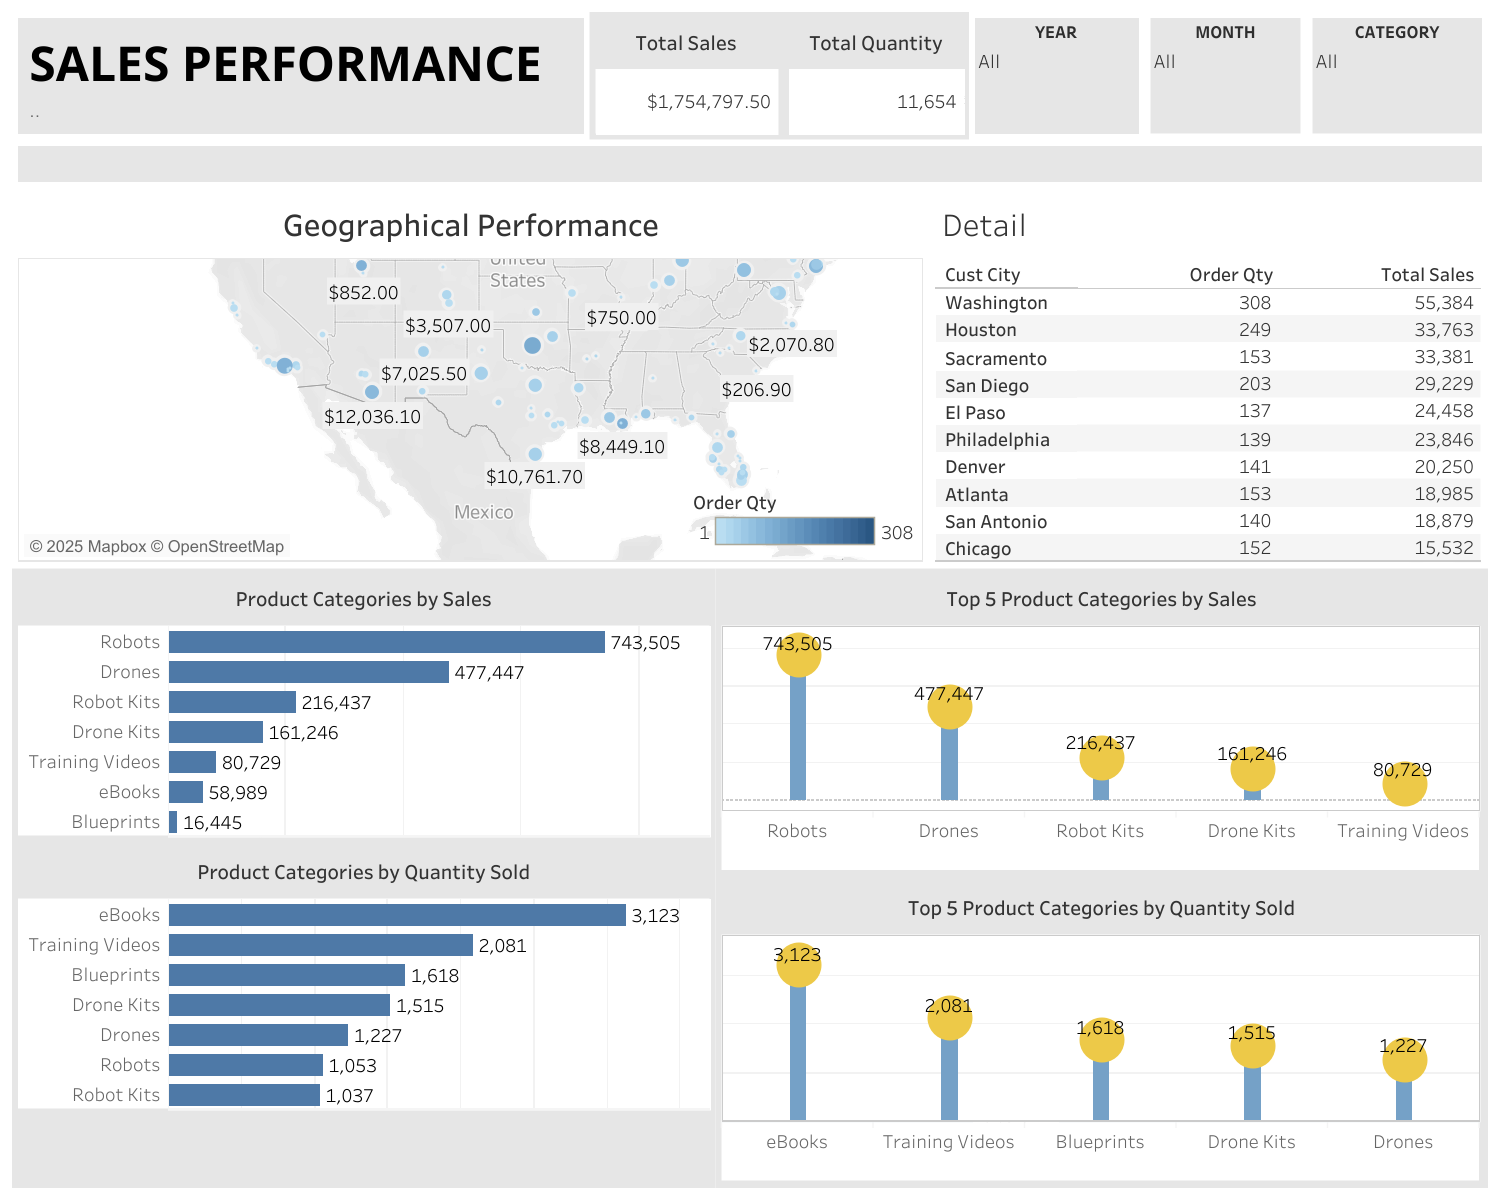

Layout of this report page (visuals, bound fields, positions):
{"tool":"powerbi","page":{"name":"Final_Dashboard","canvas":[1280,720],"ordinal":0},"visuals":[{"type":"shape","box":[0,0,1280,96],"z":0},{"type":"shape","box":[0,95.6,776.7,97.8],"z":1000},{"type":"textbox","box":[22.3,0,563.5,96],"z":2000},{"type":"textbox","box":[0,95,130,97.8],"z":3000},{"type":"textbox","box":[130,95,128.3,97.8],"z":4000},{"type":"textbox","box":[257.8,95,130,97.2],"z":5000},{"type":"card","fields":{"Values":["Sum(Table_Master_clean.total_sales)"]},"box":[0,133.9,130,58.3],"z":6000},{"type":"card","fields":{"Values":["Sum(Table_Master_clean.order_qty)"]},"box":[130,134.4,128.3,58.3],"z":7000},{"type":"card","fields":{"Values":["CountNonNull(Table_Master_clean.total_sales)"]},"box":[257.9,133.7,130,58.6],"z":8000},{"type":"slicer","title":"Year","fields":{"Values":["Table_Master_clean.order_date.Variation.Date Hierarchy.Year"]},"box":[835,0,188.3,95],"z":9000},{"type":"slicer","title":"Month","fields":{"Values":["Table_Master_clean.order_date.Variation.Date Hierarchy.Month"]},"box":[1023.3,0,128.3,95],"z":10000},{"type":"slicer","title":"Category","fields":{"Values":["Table_Master_clean.category_name"]},"box":[1151.7,0,128.3,95],"z":11000},{"type":"lineChart","title":"Top 5 Categories by Quantity Sold","fields":{"Category":["Table_Master_clean.category_name"],"Y":["Sum(Table_Master_clean.order_qty)"]},"box":[0,193.8,407.5,192.5],"z":12000},{"type":"pieChart","title":"Top 5 Categories by Sales ","fields":{"Category":["Table_Master_clean.category_name"],"Y":["Sum(Table_Master_clean.total_sales)"]},"box":[407.5,193.8,368.8,192.5],"z":13000},{"type":"clusteredBarChart","title":"Total Quantity Sold by City","fields":{"Category":["Table_Master_clean.cust_city"],"Y":["Sum(Table_Master_clean.order_qty)"]},"box":[776.2,386.2,503.8,333.8],"z":14000},{"type":"filledMap","title":"Total Sales by City","fields":{"Category":["Table_Master_clean.cust_city"]},"box":[776.2,95,498.8,291.2],"z":15000},{"type":"textbox","box":[518.7,95,129.2,97.5],"z":16000},{"type":"multiRowCard","fields":{"Values":["Table_Master_clean.cust_city","Sum(Table_Master_clean.total_sales)"]},"box":[518.7,133.3,129.2,58.3],"z":17000},{"type":"textbox","box":[647.8,95,128.3,98.3],"z":18000},{"type":"multiRowCard","fields":{"Values":["Table_Master_clean.cust_city","Sum(Table_Master_clean.order_qty)"]},"box":[647.7,135.5,128.2,58.2],"z":19000},{"type":"textbox","box":[388.2,95.5,130,98.2],"z":20000},{"type":"card","fields":{"Values":["Avg(Table_Master_clean.total_sales)"]},"box":[388.2,133.6,130,58.2],"z":21000},{"type":"clusteredBarChart","title":"Product Categories by Sales","fields":{"Category":["Table_Master_clean.category_name"],"Y":["Sum(Table_Master_clean.total_sales)"]},"box":[0,388,388,332],"z":22000},{"type":"funnel","title":"Product Categories by Quantity Sold","fields":{"Category":["Table_Master_clean.category_name"],"Y":["Sum(Table_Master_clean.order_qty)"]},"box":[388,386,388,334],"z":22001}]}

Visuals, with their boxes on the page's 1280x720 design canvas (x1, y1, x2, y2). These are canvas units, not pixel positions in the 1499x1199 screenshot, which may show the page scaled, cropped or inside an application window:
shape: <bbox>0, 0, 1280, 96</bbox>
shape: <bbox>0, 96, 777, 193</bbox>
textbox: <bbox>22, 0, 586, 96</bbox>
textbox: <bbox>0, 95, 130, 193</bbox>
textbox: <bbox>130, 95, 258, 193</bbox>
textbox: <bbox>258, 95, 388, 192</bbox>
card - Sum(Table_Master_clean.total_sales): <bbox>0, 134, 130, 192</bbox>
card - Sum(Table_Master_clean.order_qty): <bbox>130, 134, 258, 193</bbox>
card - CountNonNull(Table_Master_clean.total_sales): <bbox>258, 134, 388, 192</bbox>
"Year" slicer: <bbox>835, 0, 1023, 95</bbox>
"Month" slicer: <bbox>1023, 0, 1152, 95</bbox>
"Category" slicer: <bbox>1152, 0, 1280, 95</bbox>
"Top 5 Categories by Quantity Sold" lineChart: <bbox>0, 194, 408, 386</bbox>
"Top 5 Categories by Sales " pieChart: <bbox>408, 194, 776, 386</bbox>
"Total Quantity Sold by City" clusteredBarChart: <bbox>776, 386, 1280, 720</bbox>
"Total Sales by City" filledMap: <bbox>776, 95, 1275, 386</bbox>
textbox: <bbox>519, 95, 648, 192</bbox>
multiRowCard - Table_Master_clean.cust_city x Sum(Table_Master_clean.total_sales): <bbox>519, 133, 648, 192</bbox>
textbox: <bbox>648, 95, 776, 193</bbox>
multiRowCard - Table_Master_clean.cust_city x Sum(Table_Master_clean.order_qty): <bbox>648, 136, 776, 194</bbox>
textbox: <bbox>388, 96, 518, 194</bbox>
card - Avg(Table_Master_clean.total_sales): <bbox>388, 134, 518, 192</bbox>
"Product Categories by Sales" clusteredBarChart: <bbox>0, 388, 388, 720</bbox>
"Product Categories by Quantity Sold" funnel: <bbox>388, 386, 776, 720</bbox>
